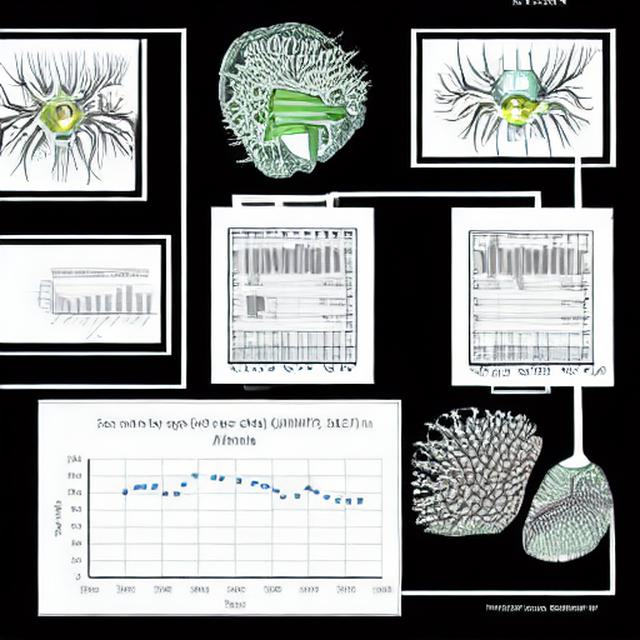Graph: (41, 409, 395, 613), (33, 269, 157, 342)
